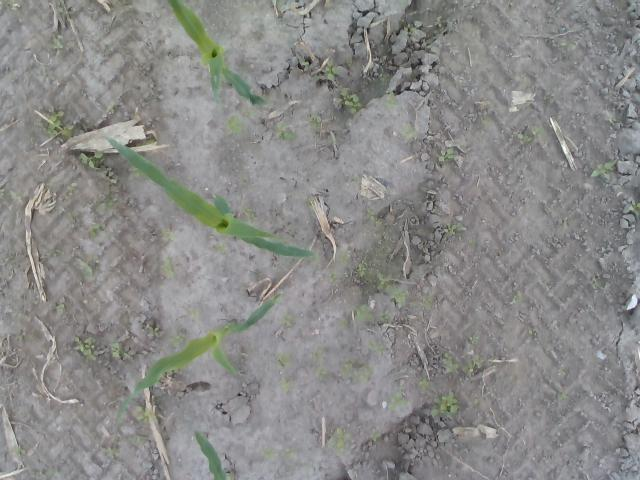Maize: (104, 133, 318, 260), (117, 290, 282, 420), (167, 0, 271, 107), (193, 430, 224, 480)
Weeds: (338, 356, 376, 385), (430, 388, 464, 418), (332, 88, 362, 114), (44, 110, 72, 136), (326, 426, 352, 454), (72, 334, 98, 360), (382, 391, 412, 410), (272, 120, 298, 140), (79, 150, 106, 169), (591, 158, 617, 177), (463, 352, 485, 374), (440, 350, 460, 374), (384, 286, 410, 304), (160, 256, 178, 280), (352, 302, 373, 322), (223, 111, 240, 134), (100, 166, 120, 185), (46, 31, 65, 50), (374, 272, 394, 290), (398, 122, 416, 141), (111, 341, 129, 360), (56, 0, 76, 17), (134, 404, 151, 424), (366, 208, 384, 226), (62, 182, 80, 200), (96, 192, 113, 211), (322, 60, 337, 81), (87, 222, 104, 240), (280, 310, 296, 328), (307, 112, 323, 130), (622, 200, 640, 216), (558, 214, 574, 231), (280, 377, 296, 393), (418, 375, 433, 392), (384, 92, 399, 109), (240, 206, 258, 220), (78, 260, 96, 274), (418, 295, 433, 311), (276, 351, 290, 368), (368, 340, 386, 353), (65, 209, 80, 224), (356, 261, 368, 279), (438, 148, 453, 162), (127, 434, 146, 445), (512, 290, 528, 303), (145, 325, 161, 338), (168, 334, 184, 347), (262, 447, 278, 460), (446, 223, 464, 234), (0, 0, 18, 11), (518, 133, 533, 146), (558, 39, 576, 49), (46, 248, 64, 258), (46, 468, 64, 478), (11, 190, 25, 202), (317, 367, 328, 382), (103, 447, 119, 457), (379, 310, 392, 322), (126, 166, 140, 177), (370, 430, 381, 444), (591, 273, 600, 290), (241, 108, 256, 118), (162, 227, 173, 240), (402, 23, 416, 33), (434, 14, 444, 28), (311, 350, 323, 361), (339, 255, 351, 266), (532, 126, 544, 137), (468, 335, 481, 345), (142, 138, 160, 145), (214, 243, 225, 254), (472, 394, 482, 406), (327, 272, 337, 284), (338, 319, 350, 329), (284, 447, 296, 457), (190, 308, 200, 318), (300, 58, 308, 70), (559, 391, 569, 400), (323, 0, 333, 9), (106, 103, 114, 114), (56, 302, 64, 312), (239, 176, 248, 184), (15, 446, 22, 456), (309, 75, 320, 81), (520, 72, 528, 80), (186, 176, 192, 180)
